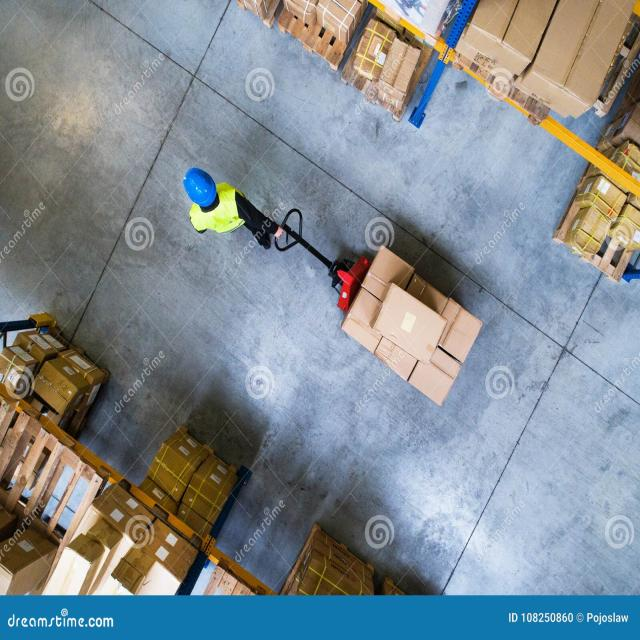box: (558, 0, 622, 123), (375, 287, 443, 362), (477, 5, 535, 75), (364, 245, 412, 304), (342, 293, 387, 353), (416, 348, 461, 407), (388, 31, 414, 102), (450, 298, 479, 361), (583, 205, 607, 264)
